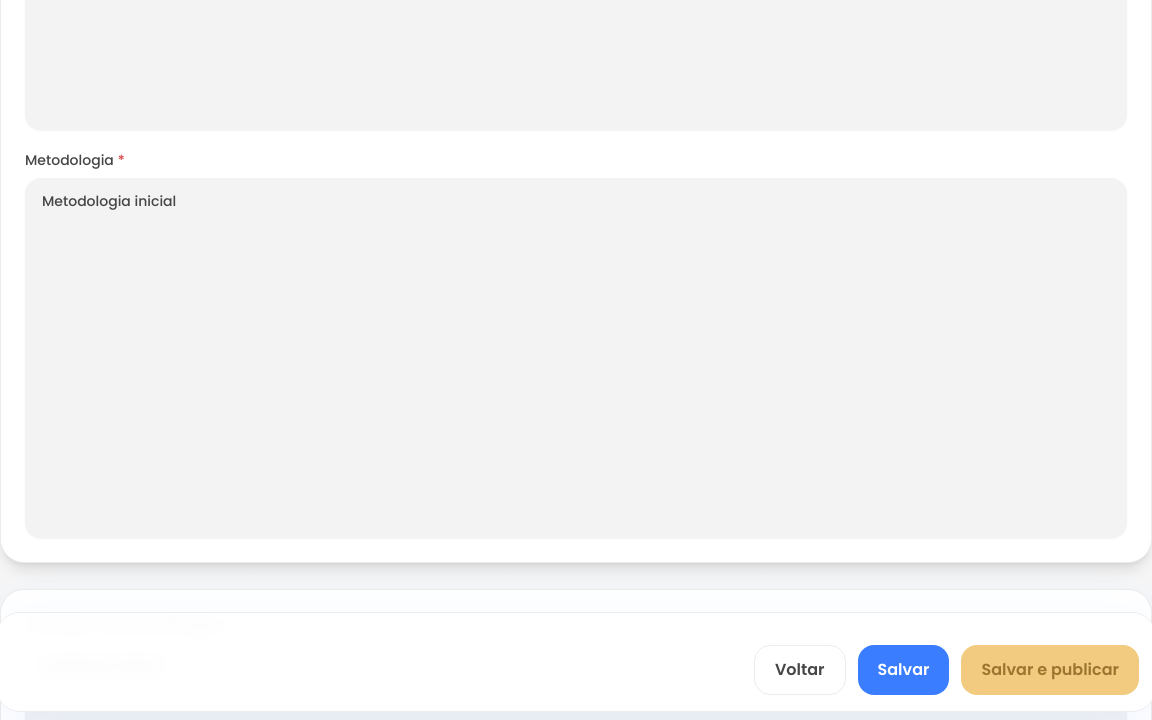
Test case: DisciplineEditPage autosave › deve salvar automaticamente alterações de formulário no backend
The image size is (1152, 720).
(page scrolled)
Replace the text in the text box labelled "Metodologia" with "Metodologia atualizada por autosave" at x=576, y=358, box [25,178,1127,538]
(page scrolled)
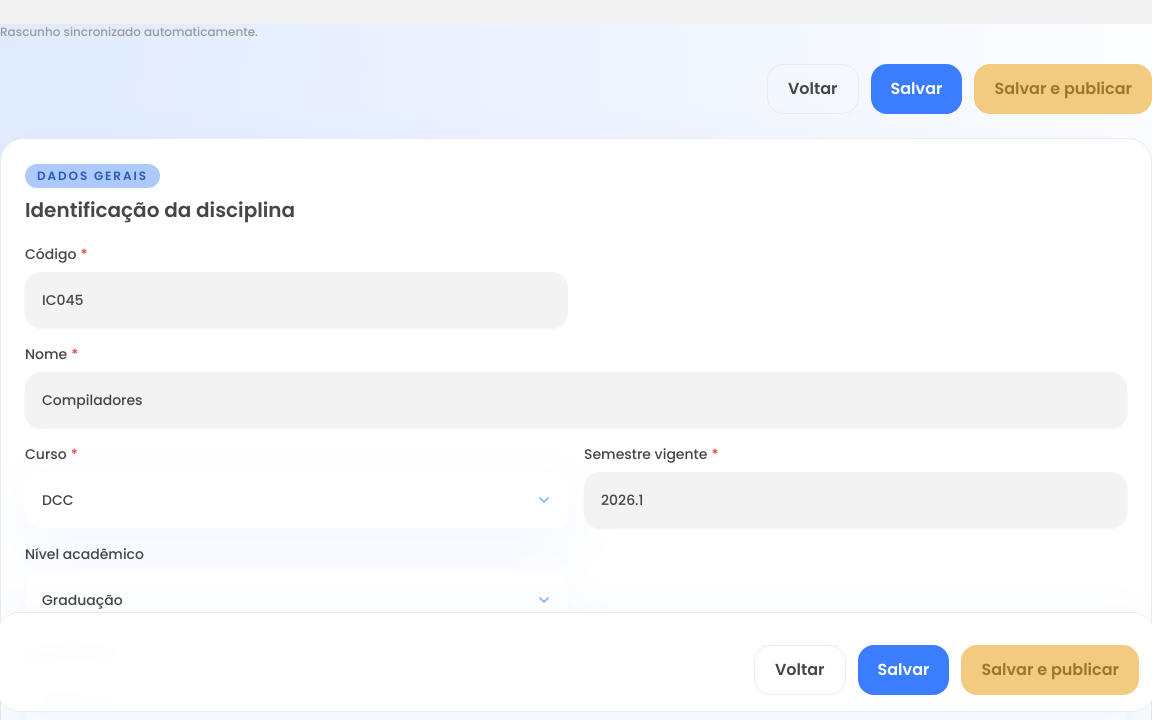
Check: the text "Rascunho sincronizado automaticamente." is shown, box [0,23,258,40]
